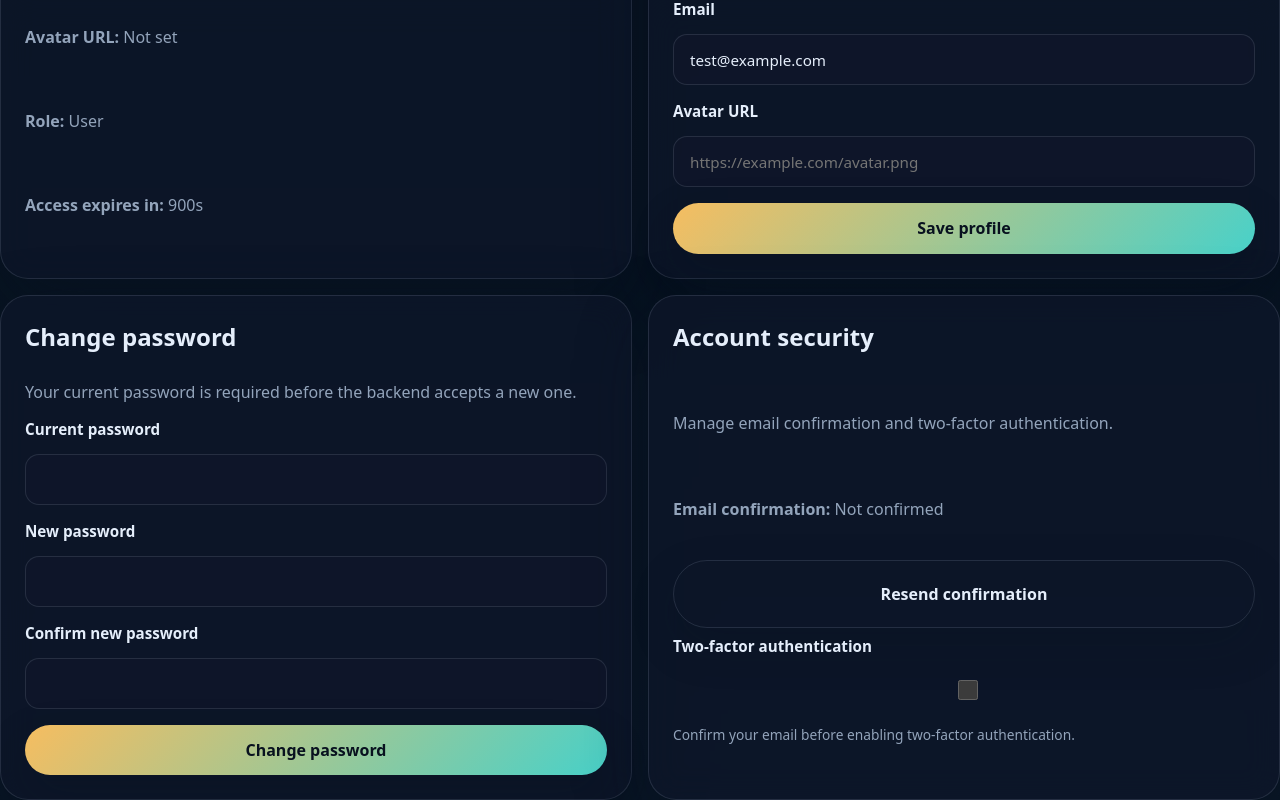
it: Profile page › resends confirmation for an unconfirmed email
The width and height of the screenshot is (1280, 800).
(page scrolled)
Step 1. Click the button "Resend confirmation" → [964, 594], box [673,560,1255,628]
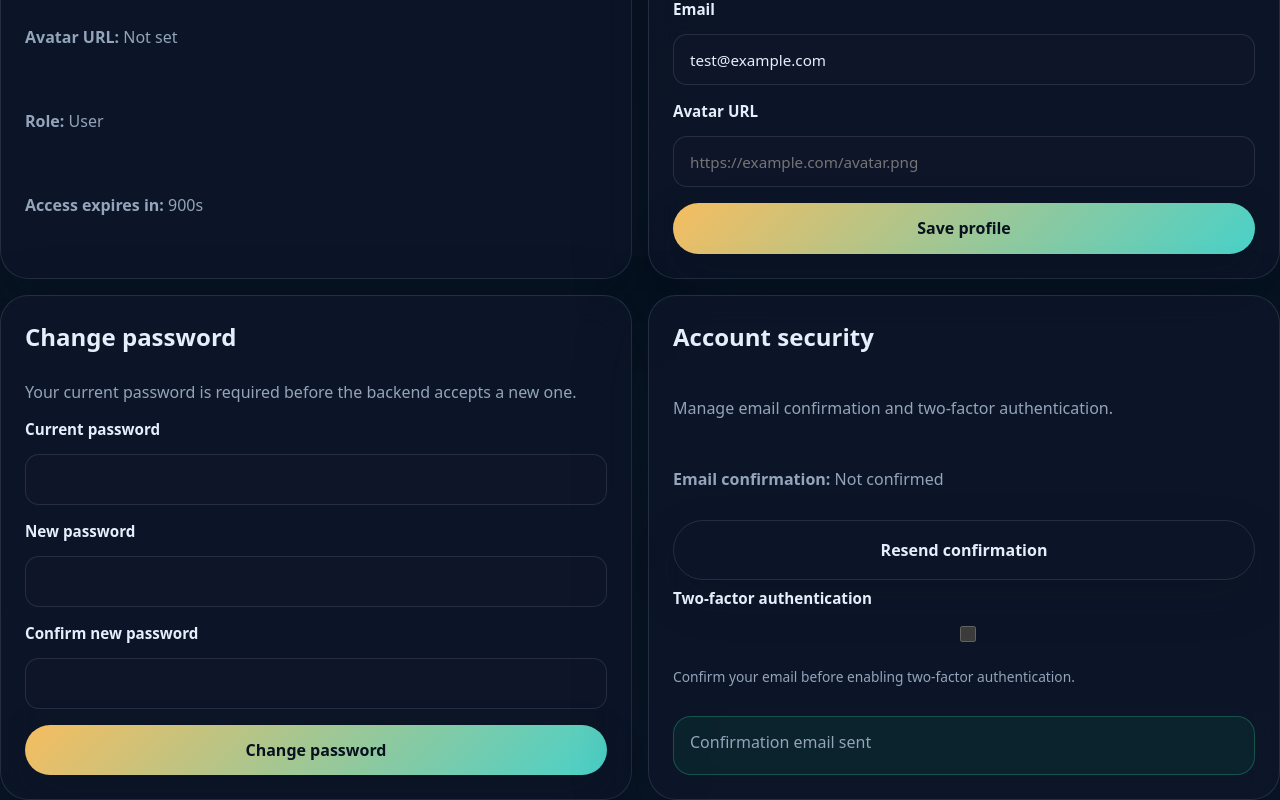
Expected: the text "Confirmation email sent" is shown, [673,716,1255,775]
